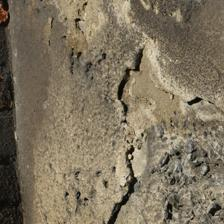Crack: (0, 45, 125, 117), (18, 83, 128, 141)
